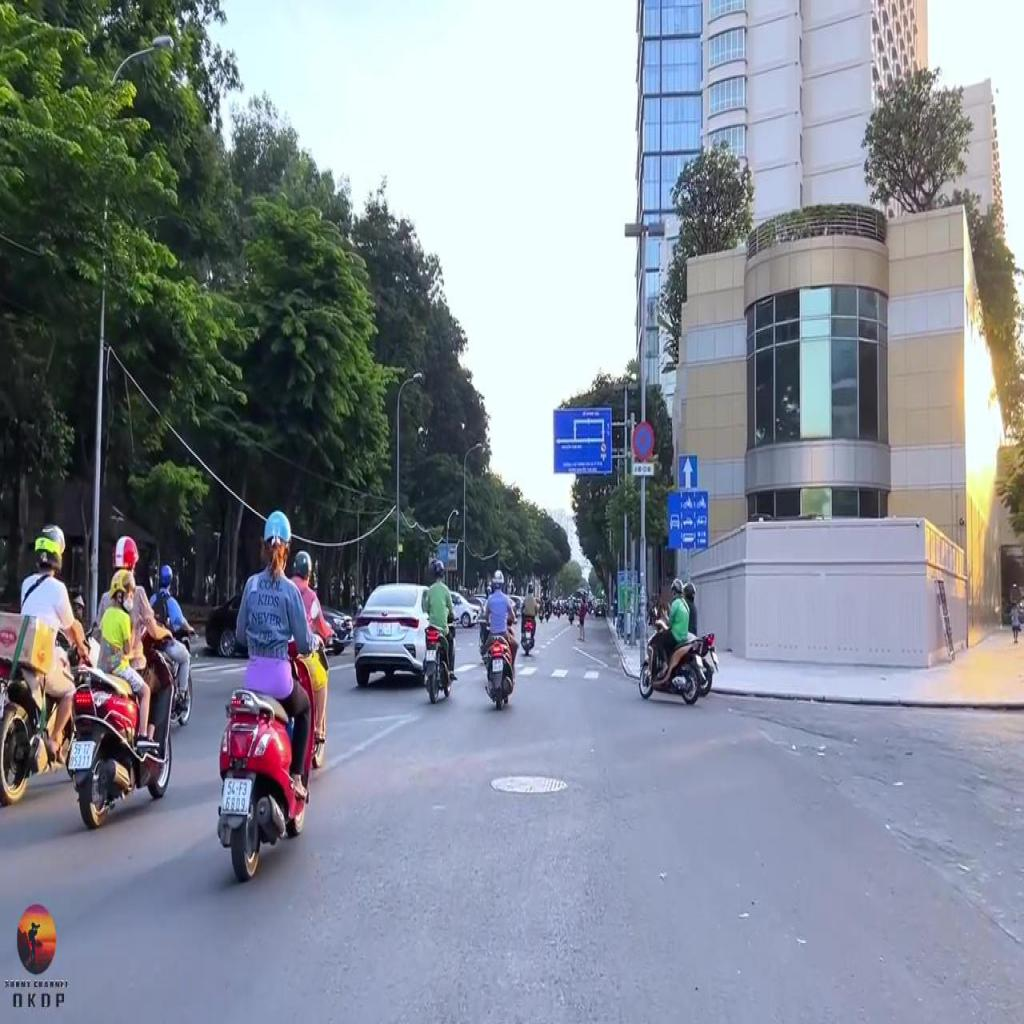cam_dung_xe_va_do_xe: (632, 422, 655, 460)
duong_mot_chieu: (678, 455, 698, 487)
khac: (554, 410, 613, 472), (632, 462, 654, 476)
lan_duong_cho_tung_xe_theo_vach_ke_duong: (668, 491, 709, 550)
